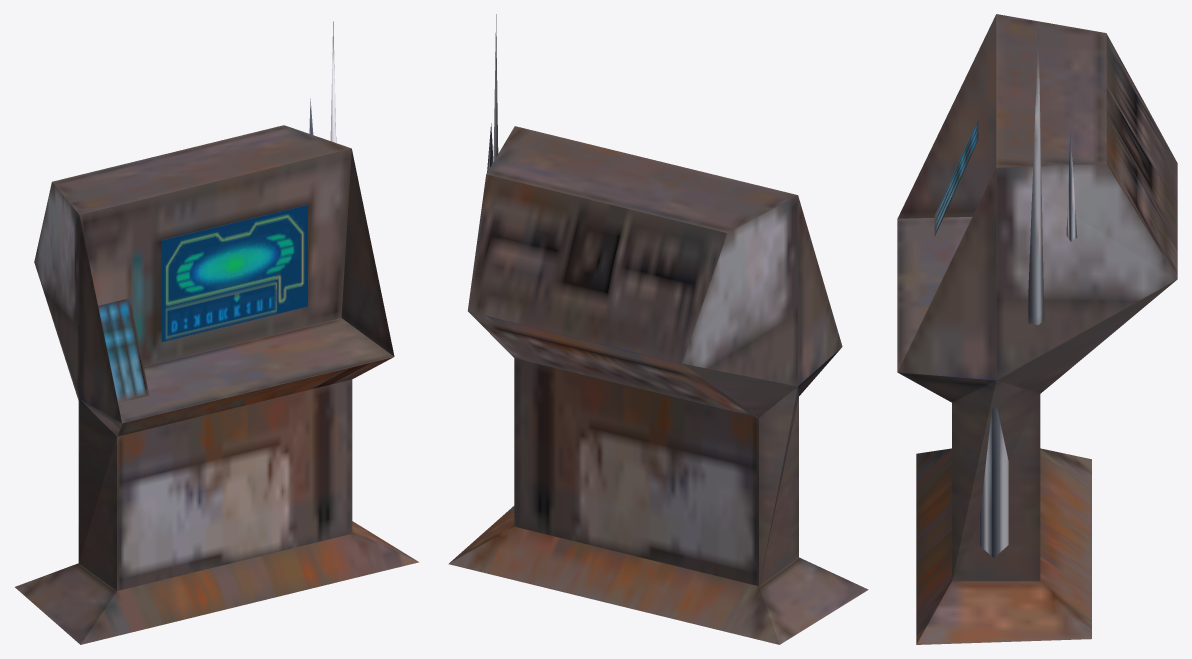
The model's file is frn_imp_data_terminal_s3_l2.fbx.
3 views of the same model, side by side, from view 1: azimuth 30°, elevation 25°; view 2: azimuth 150°, elevation 25°; view 3: azimuth 270°, elevation 25° (orthographic). The views are drawn at different scales.
Parts seen in each view (by area): view 1: mesh_node; view 2: mesh_node; view 3: mesh_node.
Boxes of the visible parts, box(x1,y1,x2,y2) form: mesh_node: box(15, 21, 418, 644); mesh_node: box(448, 14, 868, 644); mesh_node: box(897, 14, 1177, 644).
Size of the model in its own units: 1.5 by 2.19 by 0.9285.
